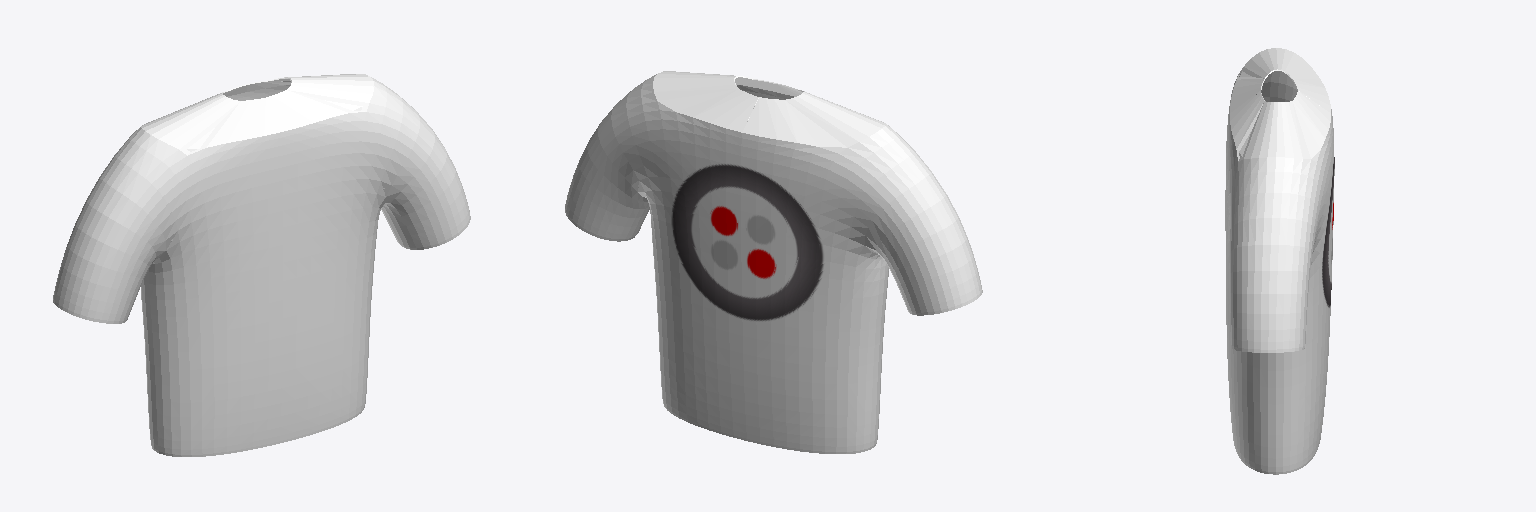
3 views of the same model, side by side, from view 1: azimuth 30°, elevation 25°; view 2: azimuth 150°, elevation 25°; view 3: azimuth 270°, elevation 25° (orthographic).
Visible parts, largest first — view 1: Cube_Cube.001; view 2: Cube_Cube.001; view 3: Cube_Cube.001.
Boxes of the visible parts, <box> form: Cube_Cube.001: <box>53,74,470,456</box>; Cube_Cube.001: <box>565,71,982,453</box>; Cube_Cube.001: <box>1225,48,1334,474</box>.
Bounding box in the file's own units: 2.52 × 2.01 × 0.5839.
1 materials, 1 textured.